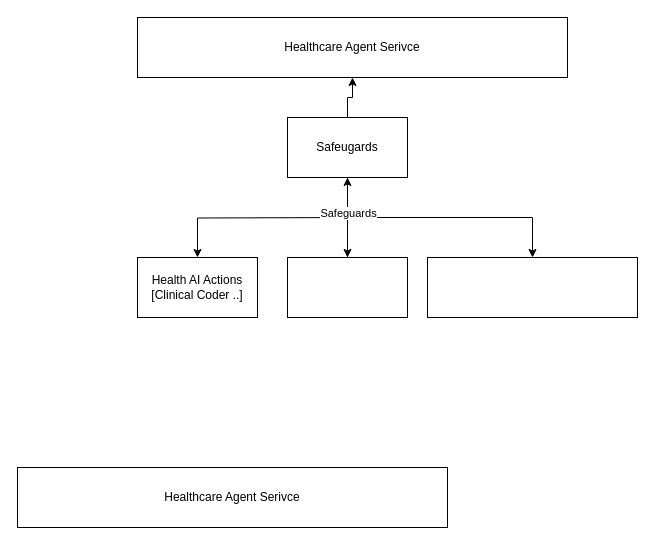
This 655x545 diagram has some shape labels left out. The shapes that lost their labels are listed below. From the top down, each one's centre as x and y in pixels, then its label:
At pixel 347 287: "Azure OpenAI Models".
At pixel 532 287: "Customer Sources [Azure AI Search - Bing Custom Search- Azure OpenAI Endpoints ]".
